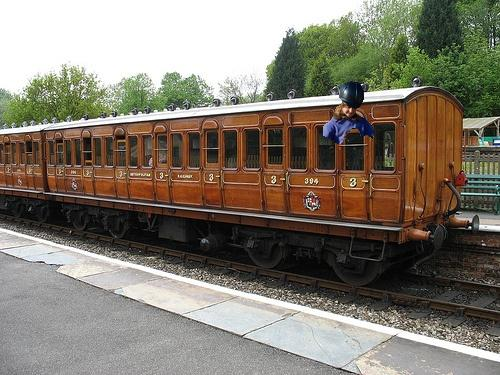tampered: (324, 82, 374, 144)
